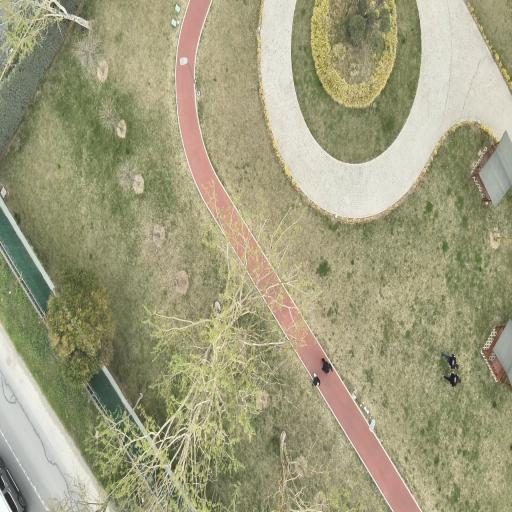car: (0, 458, 26, 511)
person: (442, 354, 458, 369), (443, 373, 460, 386), (322, 358, 333, 374), (313, 373, 320, 386)
